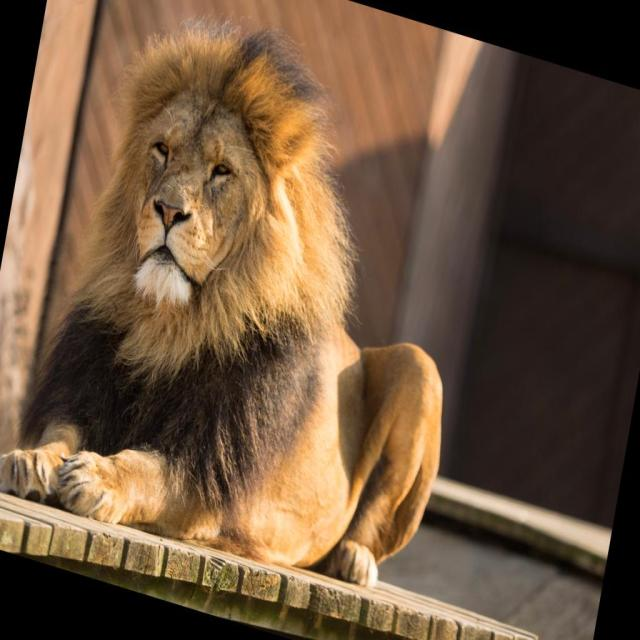Lion: (0, 0, 503, 617)
